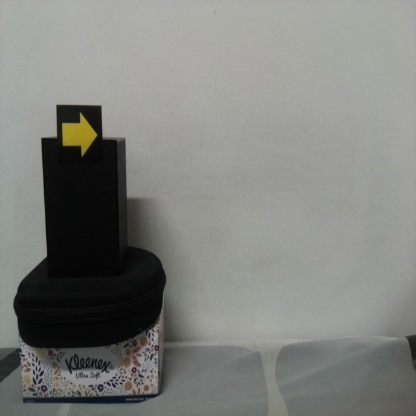id_3: (57, 105, 102, 164)
